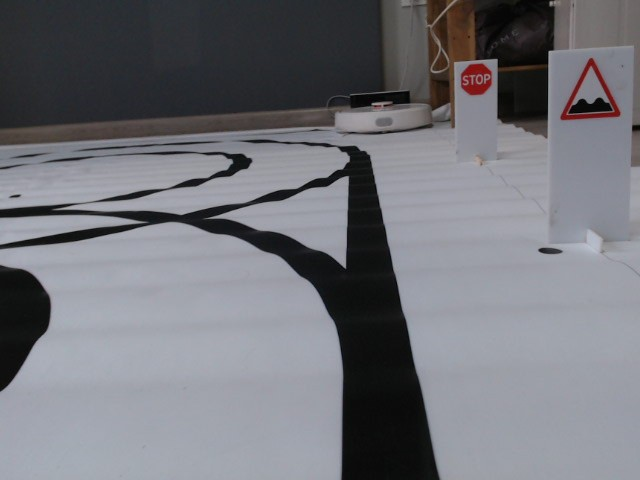Nerov: (559, 57, 624, 120)
